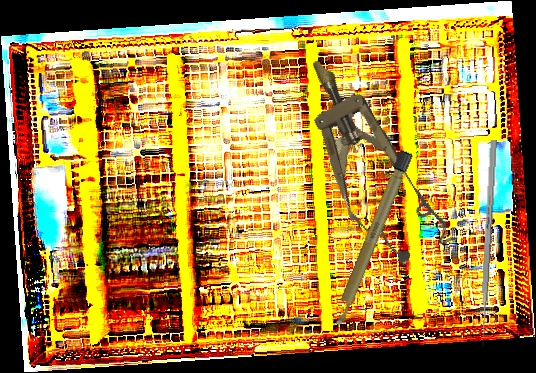Pusher: (479, 139, 497, 348)
Scalpel Handle: (328, 147, 414, 332)
Speculum: (277, 40, 459, 280)
